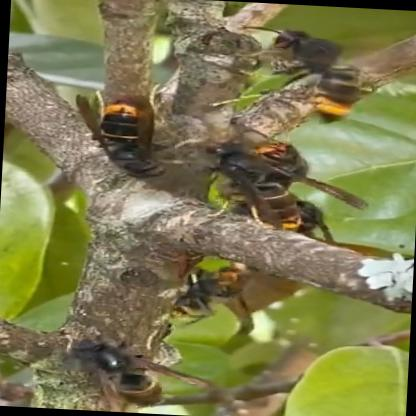bee: (60, 0, 397, 409)
